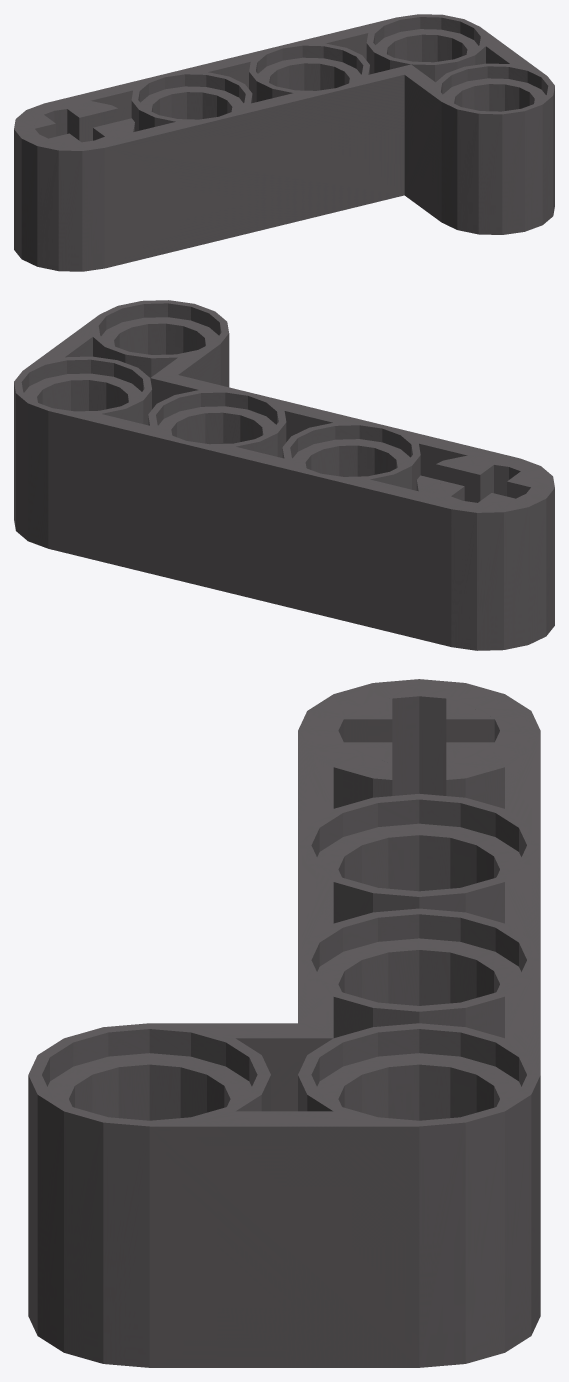
File: ang_beam_4x2_90_deg.dae
The picture shows the model from 3 angles, top to bottom: view 1: azimuth 30°, elevation 25°; view 2: azimuth 150°, elevation 25°; view 3: azimuth 270°, elevation 25°; orthographic projection. The views are drawn at different scales.
Visible parts, largest first — view 1: node; view 2: node; view 3: node.
Part boxes in pixels (x1,y1,x2,y2): node: (14, 14, 554, 271); node: (14, 300, 554, 650); node: (28, 679, 540, 1367).
Size of the model in its own units: 77.5 by 19.5 by 37.5.
1 material, 1 textured.
